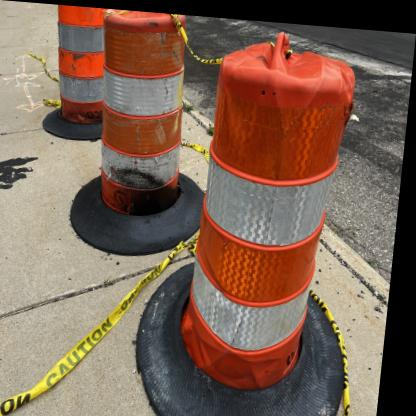obstacle: (182, 23, 360, 389), (93, 10, 190, 216)
